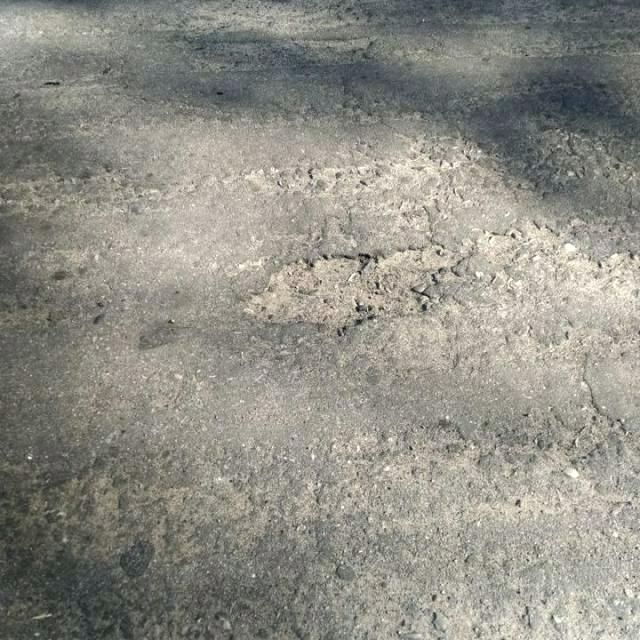Pothole: (242, 241, 466, 335)
